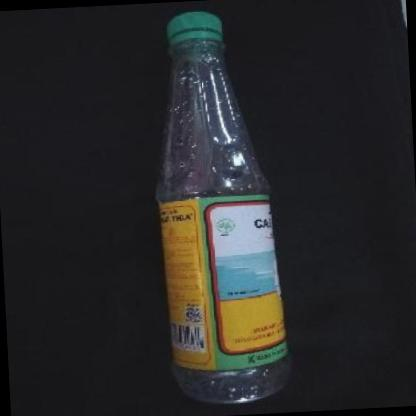plastic_bottles: (145, 5, 298, 412)
